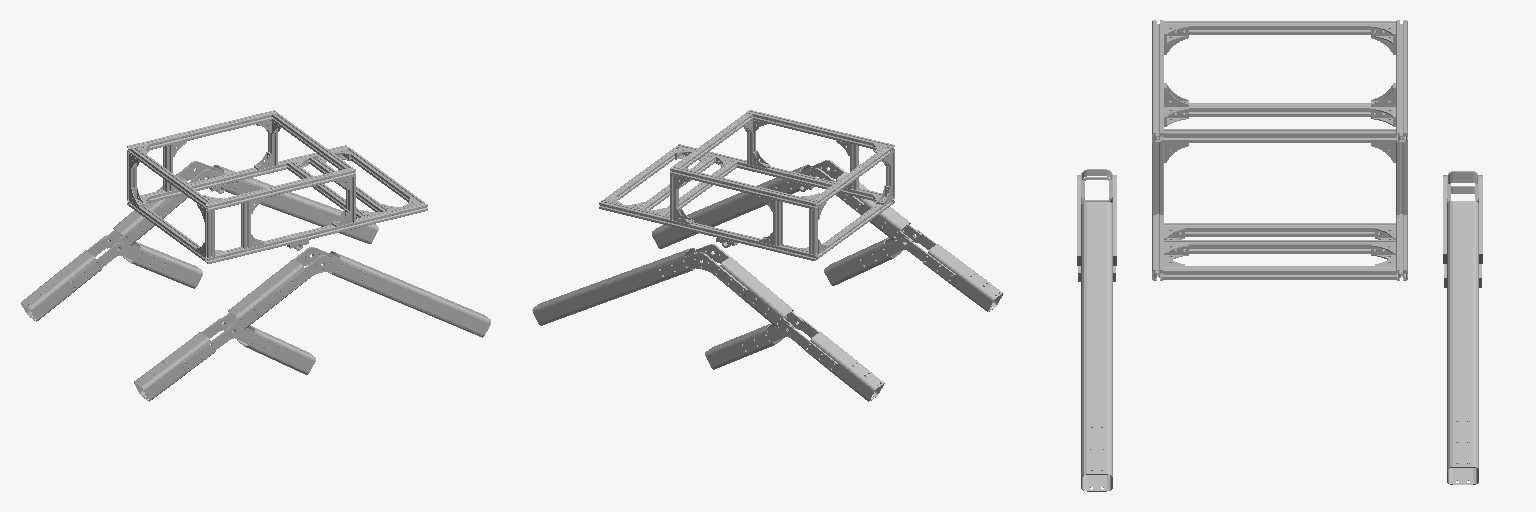
URDF robot description (rover):
<?xml version="1.0" encoding="utf-8"?>
<!-- This URDF was automatically created by SolidWorks to URDF Exporter! Originally created by [author] ([email redacted]) 
     Commit Version: 1.6.0-4-g7f85cfe  Build Version: 1.6.7995.38578
     For more information, please see http://wiki.ros.org/sw_urdf_exporter -->
<robot
  name="rover">
  <link
    name="chassis">
    <inertial>
      <origin
        xyz="0.2806 0.39193 0.4973"
        rpy="0 0 0" />
      <mass
        value="1.2964" />
      <inertia
        ixx="0.0067285"
        ixy="1.6749E-11"
        ixz="4.187E-12"
        iyy="0.014129"
        iyz="4.2311E-11"
        izz="0.020236" />
    </inertial>
    <visual>
      <origin
        xyz="0 0 0"
        rpy="0 0 0" />
      <geometry>
        <mesh
          filename="package://rover/meshes/chassis.STL" />
      </geometry>
      <material
        name="">
        <color
          rgba="0.75294 0.75294 0.75294 1" />
      </material>
    </visual>
    <collision>
      <origin
        xyz="0 0 0"
        rpy="0 0 0" />
      <geometry>
        <mesh
          filename="package://rover/meshes/chassis.STL" />
      </geometry>
    </collision>
  </link>
  <link
    name="rocker_1">
    <inertial>
      <origin
        xyz="-0.06340165227202 0.0349398172882702 0.170844109095454"
        rpy="0 0 0" />
      <mass
        value="0.70205795902915" />
      <inertia
        ixx="0.00217365418533618"
        ixy="6.72961454379896E-19"
        ixz="-0.00213217567457792"
        iyy="0.00810448763367225"
        iyz="9.82127545938036E-19"
        izz="0.00630951857064517" />
    </inertial>
    <visual>
      <origin
        xyz="0 0 0"
        rpy="0 0 0" />
      <geometry>
        <mesh
          filename="package://rover/meshes/rocker_1.STL" />
      </geometry>
      <material
        name="">
        <color
          rgba="0.752941176470588 0.752941176470588 0.752941176470588 1" />
      </material>
    </visual>
    <collision>
      <origin
        xyz="0 0 0"
        rpy="0 0 0" />
      <geometry>
        <mesh
          filename="package://rover/meshes/rocker_1.STL" />
      </geometry>
    </collision>
  </link>
  <joint
    name="joint_1"
    type="continuous">
    <origin
      xyz="0.257280649253525 0.686809397997044 0.442407585082231"
      rpy="3.14159265358979 0 0" />
    <parent
      link="chassis" />
    <child
      link="rocker_1" />
    <axis
      xyz="0 1 0" />
  </joint>
  <link
    name="wheel_1">
    <inertial>
      <origin
        xyz="-0.000176268264627466 -0.0635452754722254 -0.000101180829690989"
        rpy="0 0 0" />
      <mass
        value="3.71098878292473" />
      <inertia
        ixx="0.0272042721495548"
        ixy="4.78292852960967E-05"
        ixz="-4.80095002474376E-05"
        iyy="0.0486688742533957"
        iyz="2.76468584133017E-05"
        izz="0.0272554582914966" />
    </inertial>
    <visual>
      <origin
        xyz="0 0 0"
        rpy="0 0 0" />
      <geometry>
        <mesh
          filename="package://rover/meshes/wheel_1.STL" />
      </geometry>
      <material
        name="">
        <color
          rgba="0.752941176470588 0.752941176470588 0.752941176470588 1" />
      </material>
    </visual>
    <collision>
      <origin
        xyz="0 0 0"
        rpy="0 0 0" />
      <geometry>
        <mesh
          filename="package://rover/meshes/wheel_1.STL" />
      </geometry>
    </collision>
  </link>
  <joint
    name="joint_3"
    type="continuous">
    <origin
      xyz="0.56495774388434 0.714395200000001 0.343590017662668"
      rpy="0 0 0" />
    <parent
      link="rocker_1" />
    <child
      link="wheel_1" />
    <axis
      xyz="0 1 0" />
  </joint>
  <link
    name="wheel_2">
    <inertial>
      <origin
        xyz="0.000178620256588879 -0.0635452760057445 -9.69747168301782E-05"
        rpy="0 0 0" />
      <mass
        value="3.71098882720173" />
      <inertia
        ixx="0.0271986135723213"
        ixy="-4.86694249221818E-05"
        ixz="4.44328246276884E-05"
        iyy="0.0486688706200681"
        iyz="2.62407892387355E-05"
        izz="0.0272611104617968" />
    </inertial>
    <visual>
      <origin
        xyz="0 0 0"
        rpy="0 0 0" />
      <geometry>
        <mesh
          filename="package://rover/meshes/wheel_2.STL" />
      </geometry>
      <material
        name="">
        <color
          rgba="0.752941176470588 0.752941176470588 0.752941176470588 1" />
      </material>
    </visual>
    <collision>
      <origin
        xyz="0 0 0"
        rpy="0 0 0" />
      <geometry>
        <mesh
          filename="package://rover/meshes/wheel_2.STL" />
      </geometry>
    </collision>
  </link>
  <joint
    name="joint_4"
    type="continuous">
    <origin
      xyz="-0.570472245168088 0.7143947 0.337834102553307"
      rpy="0 0 0" />
    <parent
      link="rocker_1" />
    <child
      link="wheel_2" />
    <axis
      xyz="0 1 0" />
  </joint>
  <link
    name="wheel_3">
    <inertial>
      <origin
        xyz="0.00194962016213629 -0.0675452751530038 0.00121412273178784"
        rpy="0 0 0" />
      <mass
        value="3.71098876925042" />
      <inertia
        ixx="0.027207070366712"
        ixy="4.70156922204123E-05"
        ixz="-4.93994988582925E-05"
        iyy="0.0486688742508458"
        iyz="2.90088130203484E-05"
        izz="0.0272526600970484" />
    </inertial>
    <visual>
      <origin
        xyz="0 0 0"
        rpy="0 0 0" />
      <geometry>
        <mesh
          filename="package://rover/meshes/wheel_3.STL" />
      </geometry>
      <material
        name="">
        <color
          rgba="0.752941176470588 0.752941176470588 0.752941176470588 1" />
      </material>
    </visual>
    <collision>
      <origin
        xyz="0 0 0"
        rpy="0 0 0" />
      <geometry>
        <mesh
          filename="package://rover/meshes/wheel_3.STL" />
      </geometry>
    </collision>
  </link>
  <joint
    name="joint_5"
    type="continuous">
    <origin
      xyz="0.00283967293050863 0.718394699999995 0.348240293269966"
      rpy="0 0 0" />
    <parent
      link="rocker_1" />
    <child
      link="wheel_3" />
    <axis
      xyz="0 1 0" />
  </joint>
  <link
    name="rocker_2">
    <inertial>
      <origin
        xyz="-0.0569379504262083 -0.0279401827117303 0.173105600500696"
        rpy="0 0 0" />
      <mass
        value="0.702057959029176" />
      <inertia
        ixx="0.00201938596176855"
        ixy="8.3732485455951E-19"
        ixz="-0.00197087340304265"
        iyy="0.00810448763367223"
        iyz="3.63483547118532E-19"
        izz="0.00646378679421278" />
    </inertial>
    <visual>
      <origin
        xyz="0 0 0"
        rpy="0 0 0" />
      <geometry>
        <mesh
          filename="package://rover/meshes/rocker_2.STL" />
      </geometry>
      <material
        name="">
        <color
          rgba="0.752941176470588 0.752941176470588 0.752941176470588 1" />
      </material>
    </visual>
    <collision>
      <origin
        xyz="0 0 0"
        rpy="0 0 0" />
      <geometry>
        <mesh
          filename="package://rover/meshes/rocker_2.STL" />
      </geometry>
    </collision>
  </link>
  <joint
    name="joint_2"
    type="continuous">
    <origin
      xyz="0.256227202845866 0.104049397997044 0.442431681089809"
      rpy="3.14159265358979 0 0" />
    <parent
      link="chassis" />
    <child
      link="rocker_2" />
    <axis
      xyz="0 1 0" />
  </joint>
  <link
    name="wheel_4">
    <inertial>
      <origin
        xyz="0.0019402142500673 0.0675452760886098 0.00122909345359265"
        rpy="0 0 0" />
      <mass
        value="3.71098880339359" />
      <inertia
        ixx="0.0272054221801452"
        ixy="-4.65457353233808E-05"
        ixz="-4.86053275368699E-05"
        iyy="0.0486688742216412"
        iyz="-2.97572117954805E-05"
        izz="0.0272543080144616" />
    </inertial>
    <visual>
      <origin
        xyz="0 0 0"
        rpy="0 0 0" />
      <geometry>
        <mesh
          filename="package://rover/meshes/wheel_4.STL" />
      </geometry>
      <material
        name="">
        <color
          rgba="0.752941176470588 0.752941176470588 0.752941176470588 1" />
      </material>
    </visual>
    <collision>
      <origin
        xyz="0 0 0"
        rpy="0 0 0" />
      <geometry>
        <mesh
          filename="package://rover/meshes/wheel_4.STL" />
      </geometry>
    </collision>
  </link>
  <joint
    name="joint_6"
    type="continuous">
    <origin
      xyz="0.551575611997302 -0.711395200000009 0.36342985845553"
      rpy="0 0 0" />
    <parent
      link="rocker_2" />
    <child
      link="wheel_4" />
    <axis
      xyz="0 1 0" />
  </joint>
  <link
    name="wheel_5">
    <inertial>
      <origin
        xyz="0.0019041216458878 0.06754527636568 0.00128429872746434"
        rpy="0 0 0" />
      <mass
        value="3.71098879444043" />
      <inertia
        ixx="0.0272082525266688"
        ixy="-4.56720854207333E-05"
        ixz="-4.99283757989465E-05"
        iyy="0.0486688742007255"
        iyz="-3.10813719211118E-05"
        izz="0.0272514775789298" />
    </inertial>
    <visual>
      <origin
        xyz="0 0 0"
        rpy="0 0 0" />
      <geometry>
        <mesh
          filename="package://rover/meshes/wheel_5.STL" />
      </geometry>
      <material
        name="">
        <color
          rgba="0.752941176470588 0.752941176470588 0.752941176470588 1" />
      </material>
    </visual>
    <collision>
      <origin
        xyz="0 0 0"
        rpy="0 0 0" />
      <geometry>
        <mesh
          filename="package://rover/meshes/wheel_5.STL" />
      </geometry>
    </collision>
  </link>
  <joint
    name="joint_7"
    type="continuous">
    <origin
      xyz="-0.00821220849695886 -0.711395699999999 0.348294101803227"
      rpy="0 0 0" />
    <parent
      link="rocker_2" />
    <child
      link="wheel_5" />
    <axis
      xyz="0 1 0" />
  </joint>
  <link
    name="wheel_6">
    <inertial>
      <origin
        xyz="0.00018330802175881 0.0635452759428508 -8.77894037699112E-05"
        rpy="0 0 0" />
      <mass
        value="3.71098880842576" />
      <inertia
        ixx="0.0271974322179864"
        ixy="4.97534168565902E-05"
        ixz="4.36810350115338E-05"
        iyy="0.0486688742480146"
        iyz="-2.40124237929748E-05"
        izz="0.0272622980653803" />
    </inertial>
    <visual>
      <origin
        xyz="0 0 0"
        rpy="0 0 0" />
      <geometry>
        <mesh
          filename="package://rover/meshes/wheel_6.STL" />
      </geometry>
      <material
        name="">
        <color
          rgba="0.752941176470588 0.752941176470588 0.752941176470588 1" />
      </material>
    </visual>
    <collision>
      <origin
        xyz="0 0 0"
        rpy="0 0 0" />
      <geometry>
        <mesh
          filename="package://rover/meshes/wheel_6.STL" />
      </geometry>
    </collision>
  </link>
  <joint
    name="joint_8"
    type="continuous">
    <origin
      xyz="-0.58427183482262 -0.707395699999999 0.308828015725114"
      rpy="0 0 0" />
    <parent
      link="rocker_2" />
    <child
      link="wheel_6" />
    <axis
      xyz="0 1 0" />
  </joint>
</robot>

--- What the picture shows (computed from the rendered views, not written in the file) ---
Views: 3 orthographic renders of the robot side by side, from view 1: azimuth 30°, elevation 25°; view 2: azimuth 150°, elevation 25°; view 3: azimuth 270°, elevation 25°.
Model rover with 9 links and 8 joints (8 continuous), rooted at chassis, posed all joints at 0.
Links seen in each view (by area): view 1: chassis, rocker_2, rocker_1; view 2: chassis, rocker_1, rocker_2; view 3: chassis, rocker_1, rocker_2.
Boxes of the visible links, x1,y1,x2,y2 form: chassis: (127, 110, 427, 263); rocker_2: (134, 247, 490, 401); rocker_1: (21, 161, 378, 321); chassis: (599, 110, 894, 260); rocker_1: (532, 244, 884, 401); rocker_2: (652, 160, 1002, 311); chassis: (1152, 20, 1407, 280); rocker_1: (1443, 171, 1482, 484); rocker_2: (1077, 169, 1116, 491).
Size in the robot's own frame: 1.13 by 0.7155 by 0.5422 metres.
Meshes: 9 distinct files referenced, 3 mesh visuals loaded (3 binary STL); not drawn: 6 (reference not matched to a file when rendering).